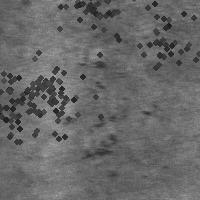rolled-in_scale: (0, 40, 98, 150), (71, 44, 136, 184), (110, 0, 200, 94), (0, 45, 62, 165), (38, 0, 134, 50)
